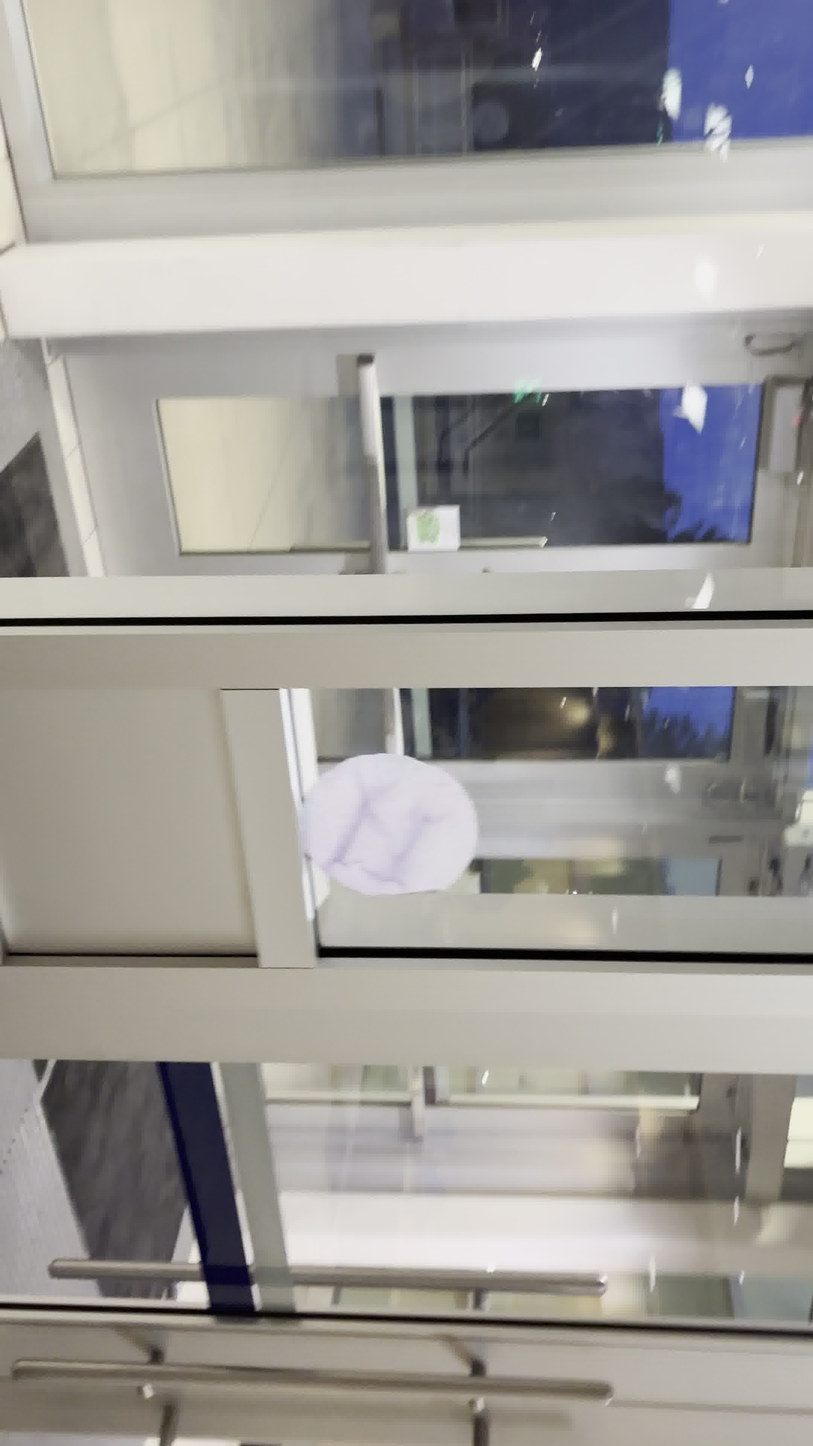Target: (300, 746, 482, 897)
